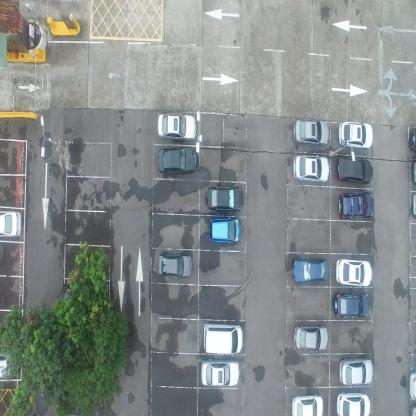car: (203, 323, 243, 355), (157, 110, 197, 140), (157, 144, 197, 173), (335, 257, 372, 288), (292, 116, 329, 147), (200, 359, 240, 387), (338, 190, 374, 221), (338, 119, 374, 150), (293, 153, 330, 183), (337, 356, 373, 386), (336, 155, 372, 184), (292, 256, 329, 284), (158, 250, 192, 280), (293, 323, 328, 352), (206, 182, 242, 210), (333, 292, 370, 319), (62, 284, 97, 312), (208, 212, 240, 242), (336, 390, 371, 415), (292, 393, 324, 415), (0, 208, 22, 239), (0, 351, 17, 380), (408, 369, 416, 402), (408, 125, 416, 152)
